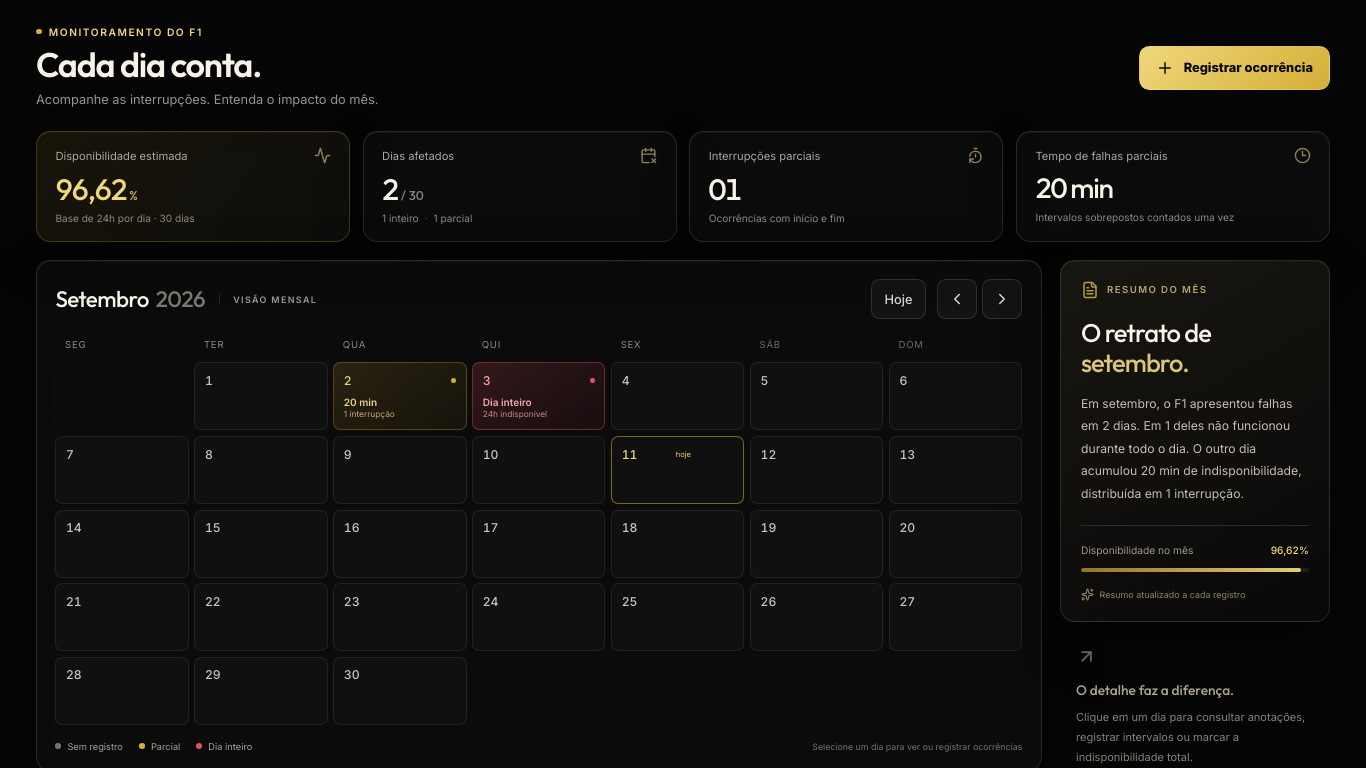
Test: CalendarWorkspace › registers on the selected date and prevents partial/full-day conflicts
The image size is (1366, 768).
Click the button named "2 de setembro, 1 interrupção, 20 minutos".
click(400, 396)  # box [333,362,466,430]
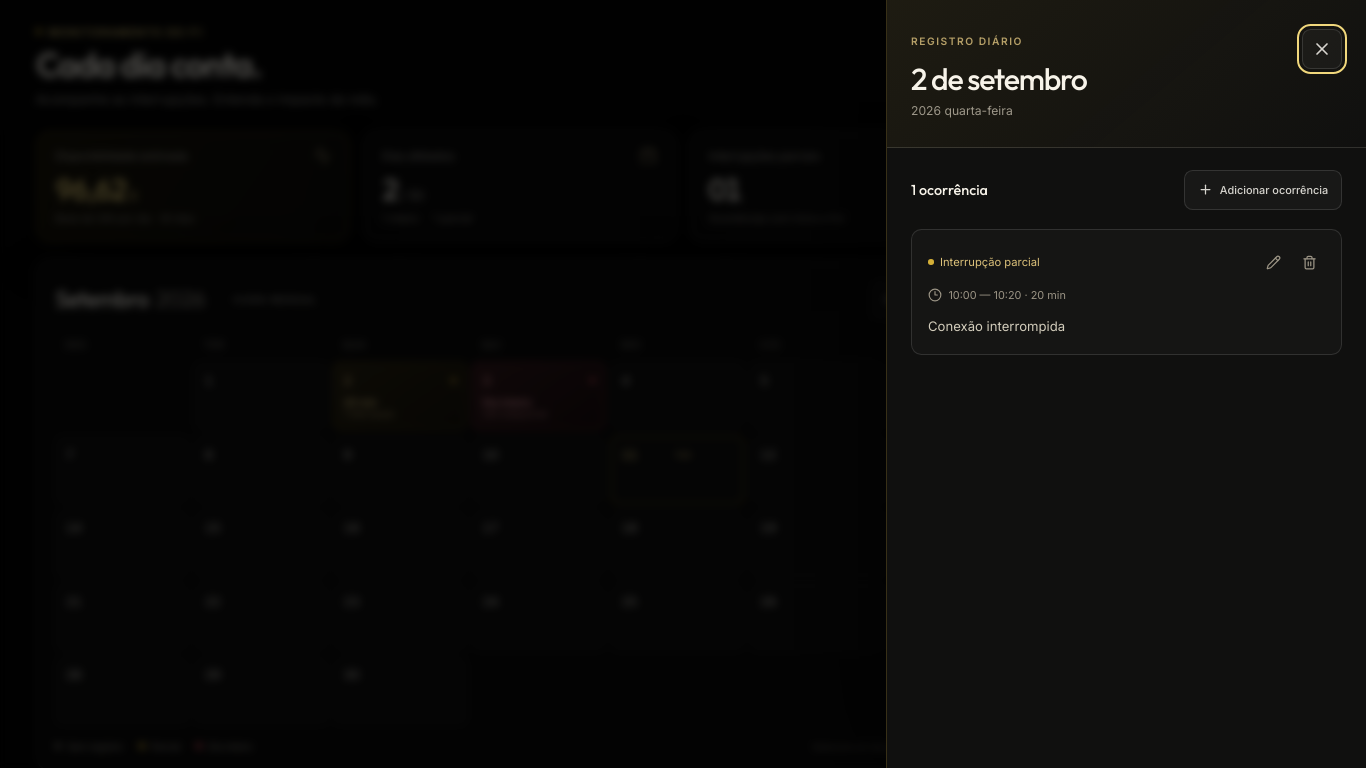
Click the button "Adicionar ocorrência".
click(1263, 190)  # box [1184,170,1342,210]
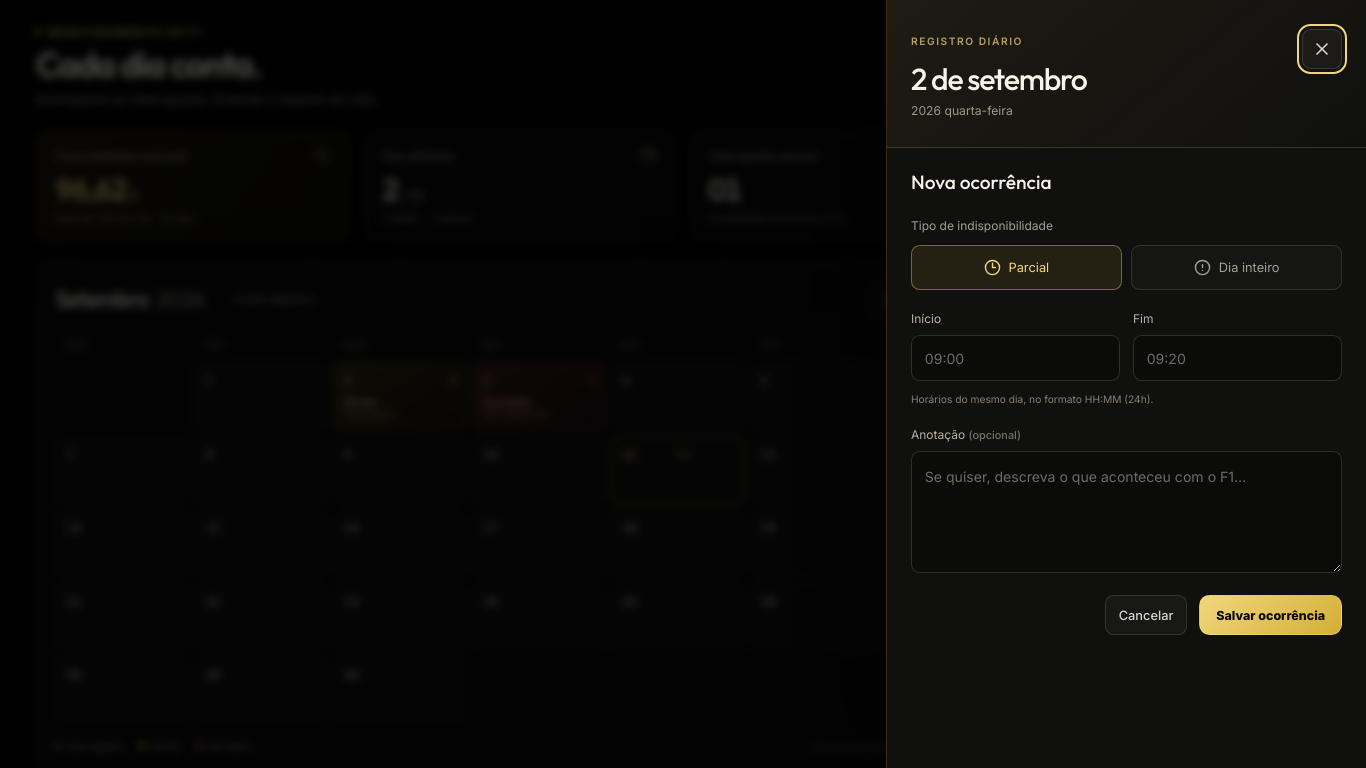
Click the radio button labelled "Dia inteiro".
click(1237, 267)  # box [1131,245,1342,290]
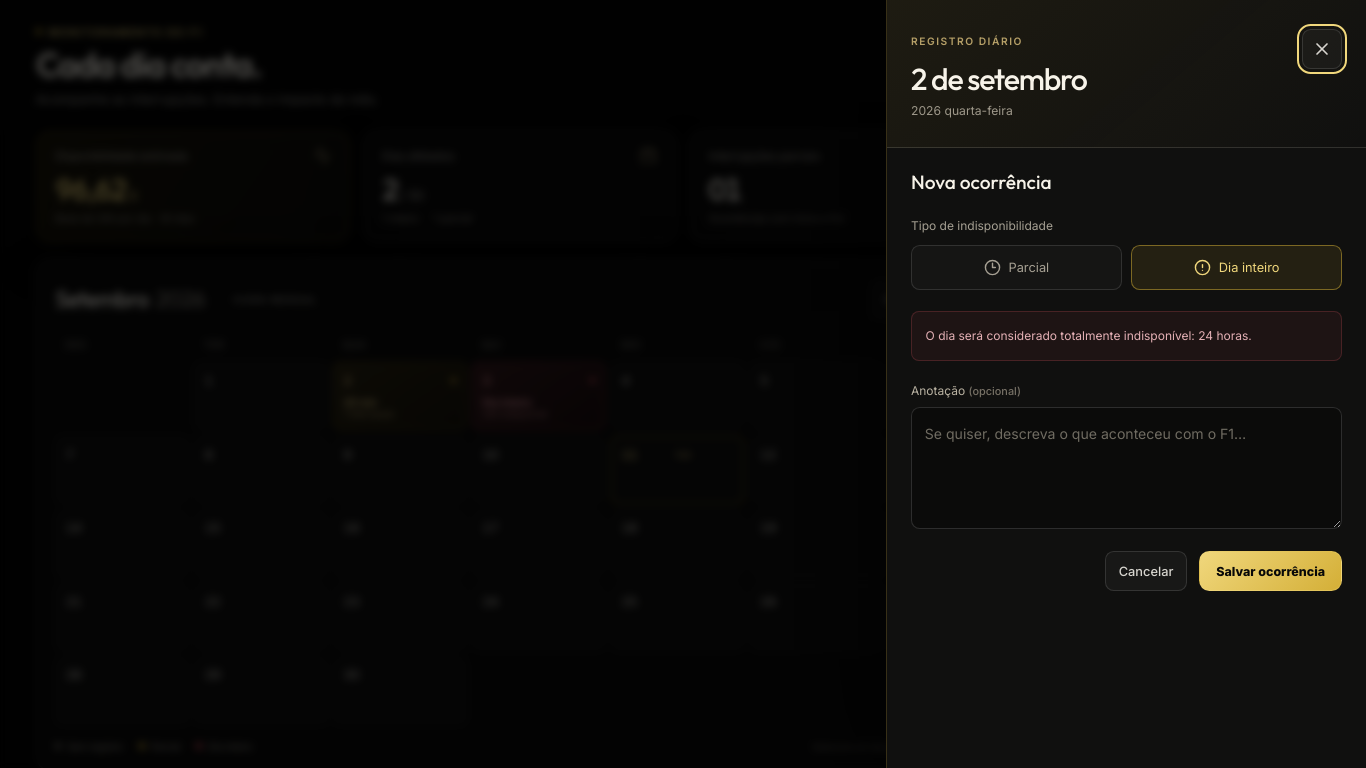
Type "Dia inteiro" into the text box labelled "Anotação".
click(1126, 468); type("Dia inteiro")  # box [911,407,1342,529]
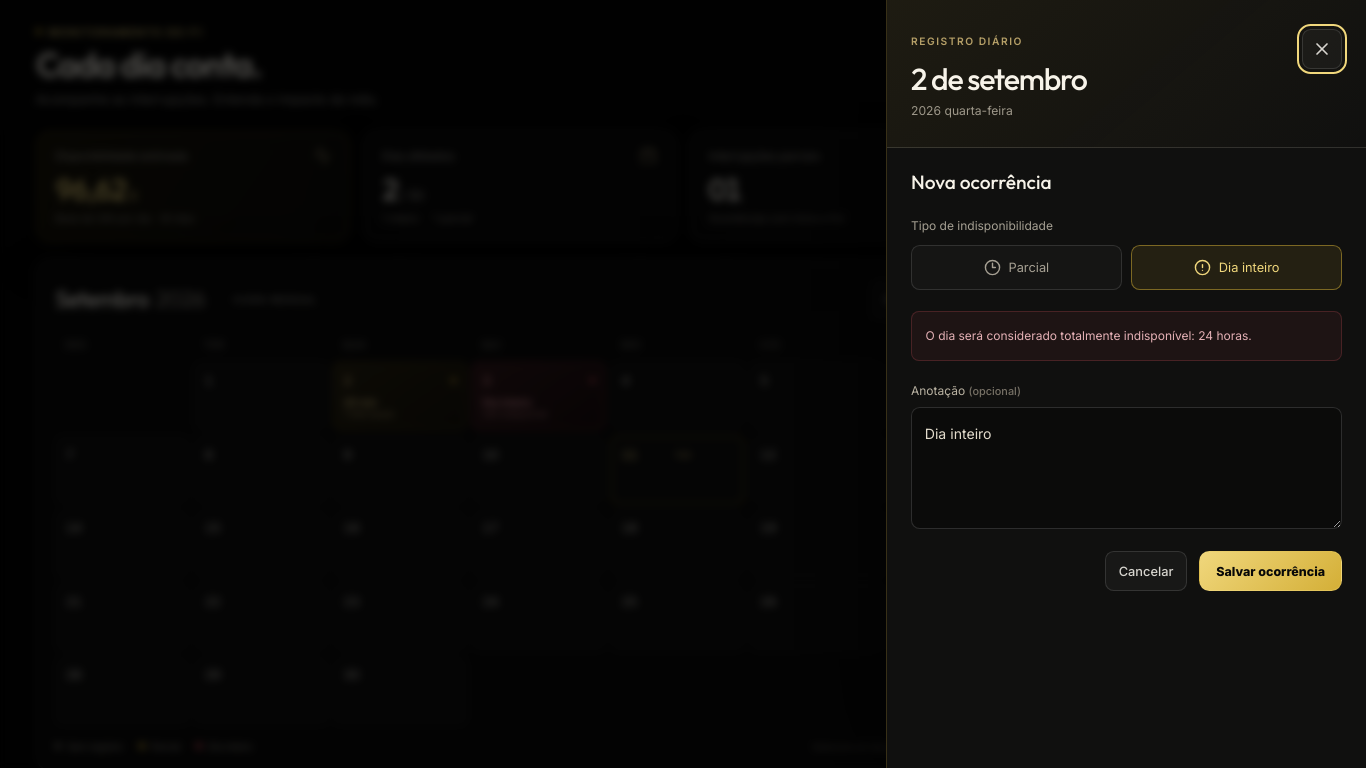
Click the button "Salvar ocorrência".
click(1271, 571)  # box [1199,551,1342,591]
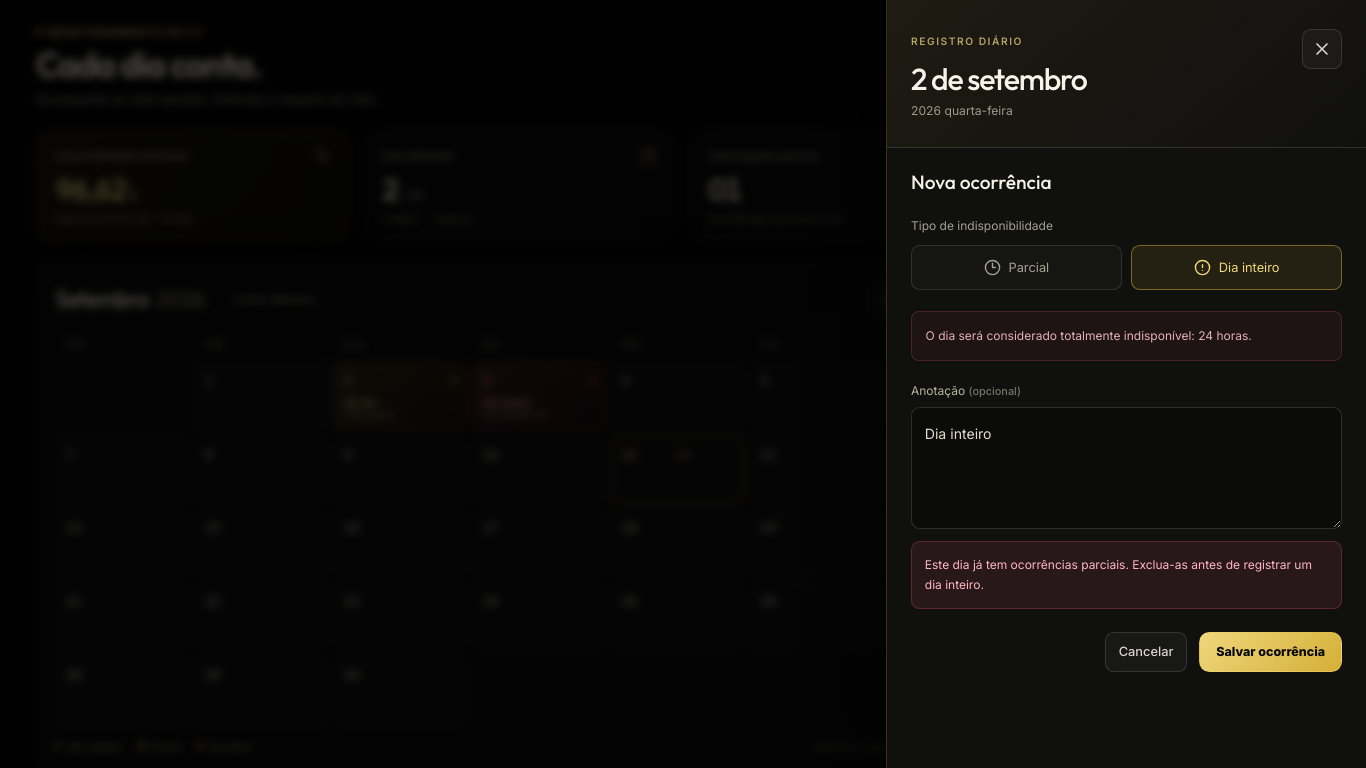
Check: the message shows "ocorrências parciais", box [925,557,1312,592]
